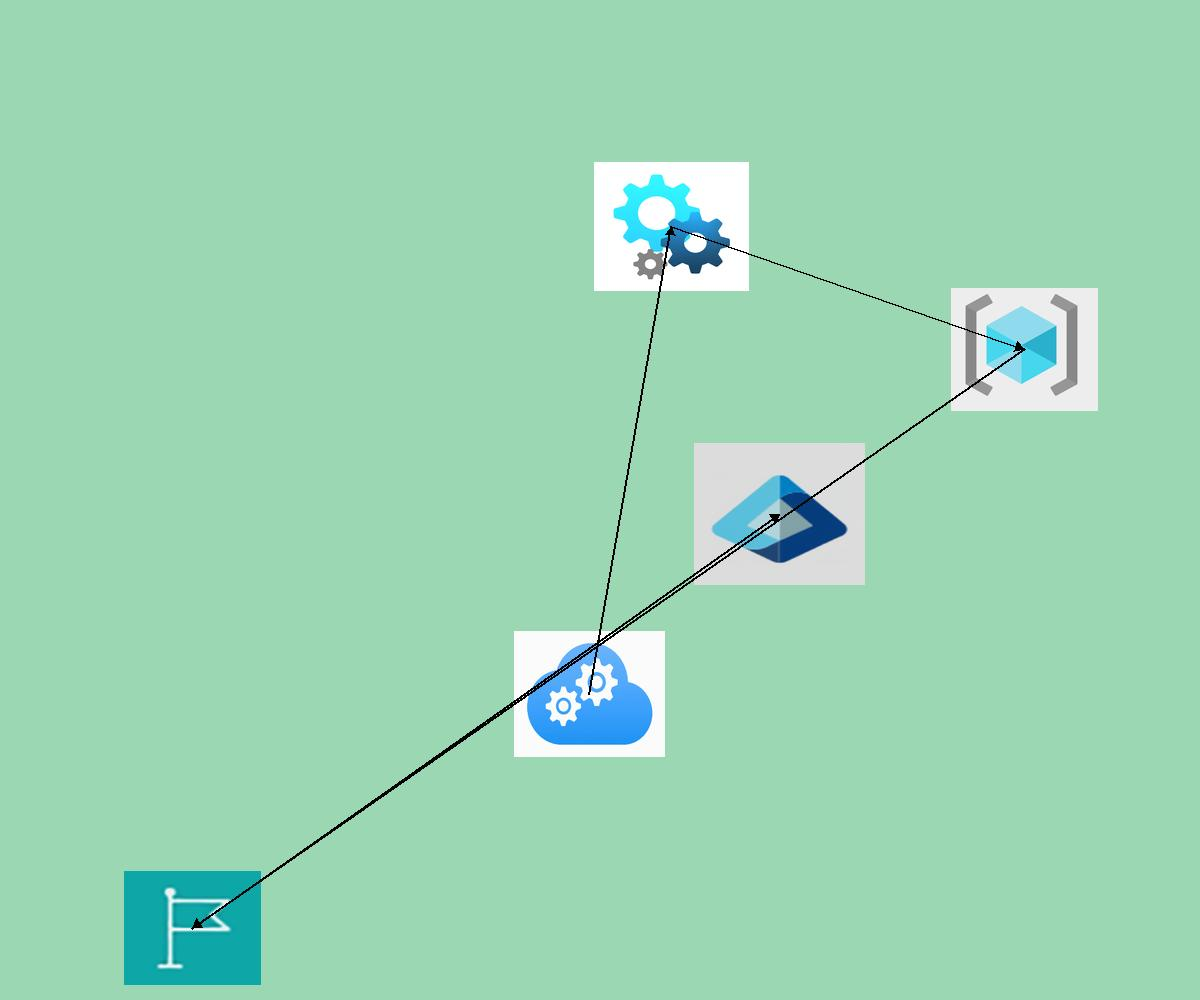AWS-Region: (124, 871, 261, 985)
Azure_api: (594, 162, 749, 291)
Azure_cloud_services: (514, 631, 665, 757)
Azure_microsoft_entra: (694, 443, 865, 585)
Azure_resource_group: (951, 288, 1098, 411)
